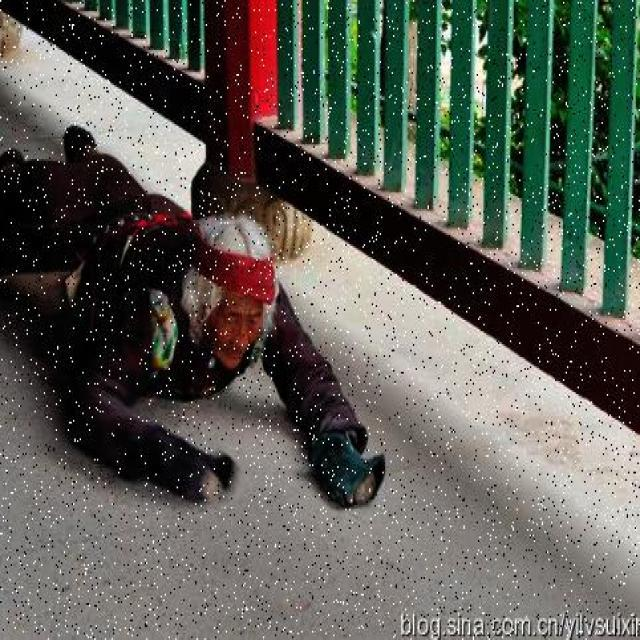fall: (0, 116, 364, 524)
